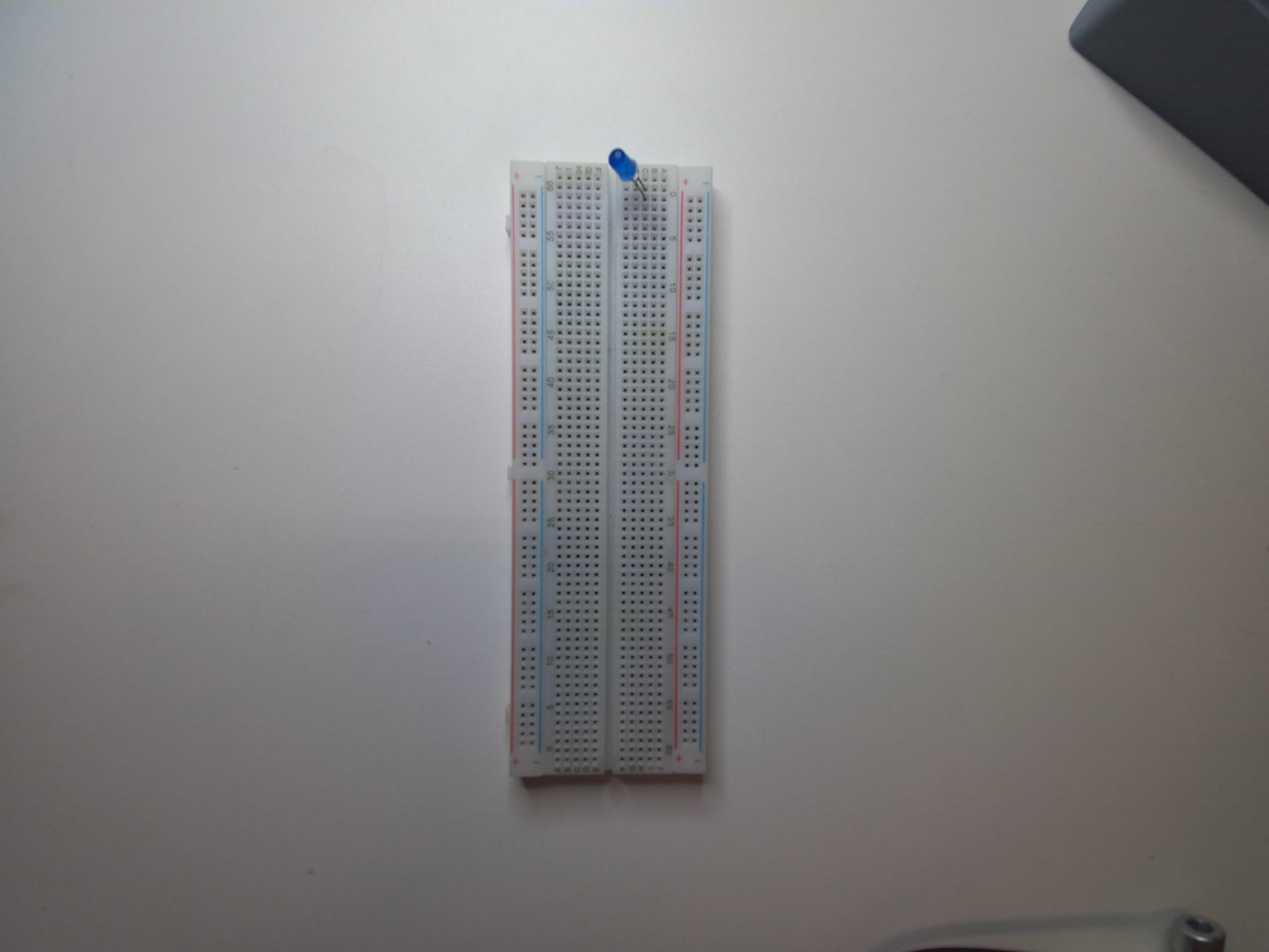base: (505, 146, 722, 789)
blue-led: (604, 144, 643, 189)
